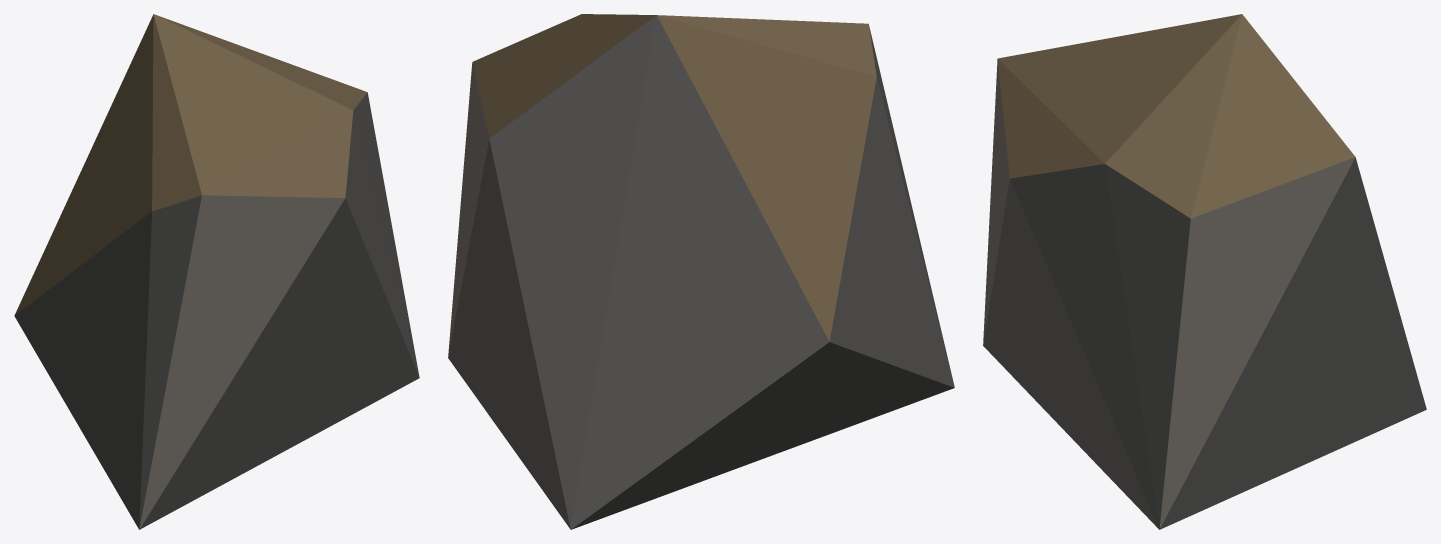
File: granite_scree_b.glb
3 views of the same model, side by side, from view 1: azimuth 30°, elevation 25°; view 2: azimuth 150°, elevation 25°; view 3: azimuth 270°, elevation 25° (orthographic). The views are drawn at different scales.
Parts seen in each view (by area): view 1: granite_scree_b; view 2: granite_scree_b; view 3: granite_scree_b.
Boxes of the visible parts, <box> form: granite_scree_b: <box>14,14,419,529</box>; granite_scree_b: <box>448,14,954,529</box>; granite_scree_b: <box>983,14,1426,529</box>.
Bounding box in the file's own units: 1 × 1 × 1.
